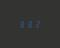eight: (18, 20, 24, 28), (26, 20, 32, 27)
two: (33, 19, 39, 27)
